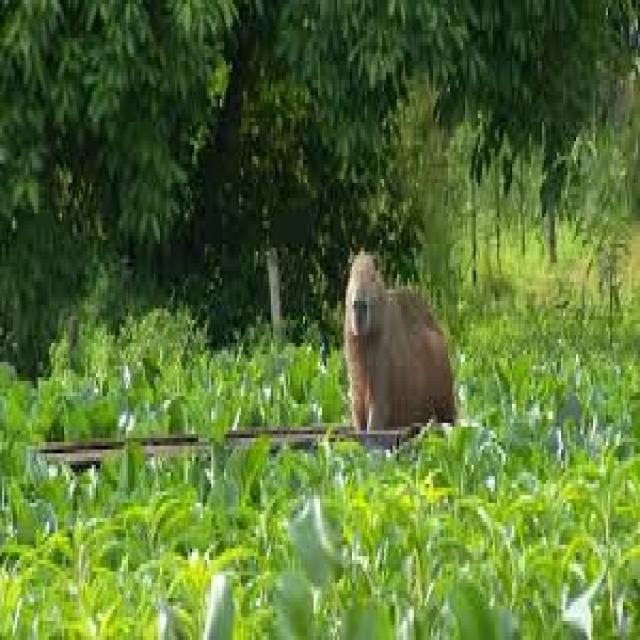capy: (342, 243, 459, 431)
